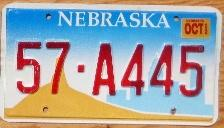4: (149, 42, 177, 96), (120, 42, 145, 98)
5: (15, 40, 44, 95), (179, 43, 207, 98)
7: (45, 40, 72, 98)
A: (92, 40, 118, 98)
